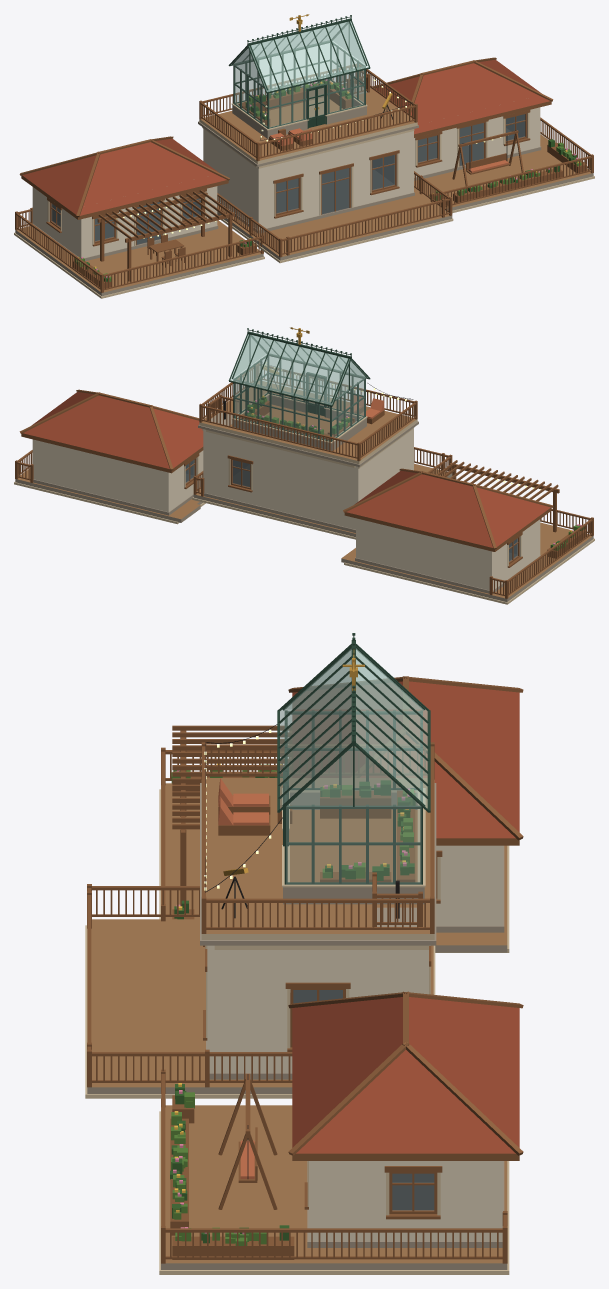
Rendered from map-house-l2.glb.
3 renders of one model, top to bottom at view 1: azimuth 30°, elevation 25°; view 2: azimuth 150°, elevation 25°; view 3: azimuth 270°, elevation 25°, orthographic. The views are drawn at different scales.
Visible parts, largest first — view 1: L2_Game_Shell, L2_Greenhouse_Frame, L2_Kitchen_Roof, L2_Memory_Roof, L2_Bin_Deck, L2_Game_Roof, L2_Living_Deck, L2_Kitchen_Shell, L2_Bin_Terrace, L2_Greenhouse_Glass, L2_Roof_Rail, L2_Memory_Shell (+13 smaller); view 2: L2_Game_Shell, L2_Greenhouse_Frame, L2_Kitchen_Roof, L2_Memory_Roof, L2_Kitchen_Shell, L2_Memory_Shell, L2_Greenhouse_Glass, L2_Game_Roof, L2_Roof_Rail, L2_Bin_Deck, L2_Bin_Terrace, L2_Bin_Rail (+9 smaller); view 3: L2_Memory_Roof, L2_Greenhouse_Frame, L2_Game_Roof, L2_Kitchen_Roof, L2_Vy_Deck, L2_Living_Deck, L2_Game_Shell, L2_Memory_Shell, L2_Greenhouse_Glass, L2_Vy_Terrace, L2_Roof_Rail, L2_Vy_Rail (+10 smaller).
Boxes of the visible parts, x1,y1,x2,y2 form: L2_Game_Shell: [202, 127, 414, 233]; L2_Greenhouse_Frame: [228, 15, 370, 138]; L2_Kitchen_Roof: [19, 136, 229, 219]; L2_Memory_Roof: [370, 57, 553, 137]; L2_Bin_Deck: [14, 220, 264, 298]; L2_Game_Roof: [198, 81, 418, 166]; L2_Living_Deck: [217, 188, 453, 263]; L2_Kitchen_Shell: [32, 186, 218, 261]; L2_Bin_Terrace: [73, 190, 256, 288]; L2_Greenhouse_Glass: [234, 66, 364, 128]; L2_Roof_Rail: [199, 64, 417, 161]; L2_Memory_Shell: [414, 107, 541, 180]; L2_Game_Shell: [202, 428, 413, 532]; L2_Greenhouse_Frame: [228, 328, 370, 450]; L2_Kitchen_Roof: [343, 468, 553, 551]; L2_Memory_Roof: [19, 389, 203, 473]; L2_Kitchen_Shell: [355, 518, 540, 593]; L2_Memory_Shell: [32, 439, 203, 515]; L2_Greenhouse_Glass: [234, 378, 365, 441]; L2_Game_Roof: [198, 381, 418, 467]; L2_Roof_Rail: [199, 363, 417, 461]; L2_Bin_Deck: [341, 522, 594, 604]; L2_Bin_Terrace: [437, 460, 585, 558]; L2_Bin_Rail: [489, 508, 593, 598]; L2_Memory_Roof: [288, 991, 523, 1160]; L2_Greenhouse_Frame: [277, 633, 430, 904]; L2_Game_Roof: [200, 778, 436, 945]; L2_Kitchen_Roof: [288, 676, 523, 845]; L2_Vy_Deck: [159, 1105, 509, 1274]; L2_Living_Deck: [85, 919, 435, 1098]; L2_Game_Shell: [203, 945, 431, 1079]; L2_Memory_Shell: [304, 1161, 504, 1247]; L2_Greenhouse_Glass: [286, 806, 421, 884]; L2_Vy_Terrace: [170, 1073, 294, 1259]; L2_Roof_Rail: [201, 742, 434, 933]; L2_Vy_Rail: [161, 1069, 507, 1263].
Bounding box in the file's own units: 30.84 × 11.2 × 11.86.
